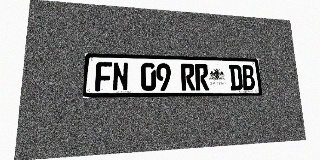0: (141, 63, 156, 91)
9: (156, 63, 171, 91)
B: (241, 65, 255, 90)
D: (229, 65, 243, 90)
F: (95, 62, 112, 91)
N: (112, 62, 128, 91)
R: (181, 64, 195, 91), (195, 64, 209, 91)
